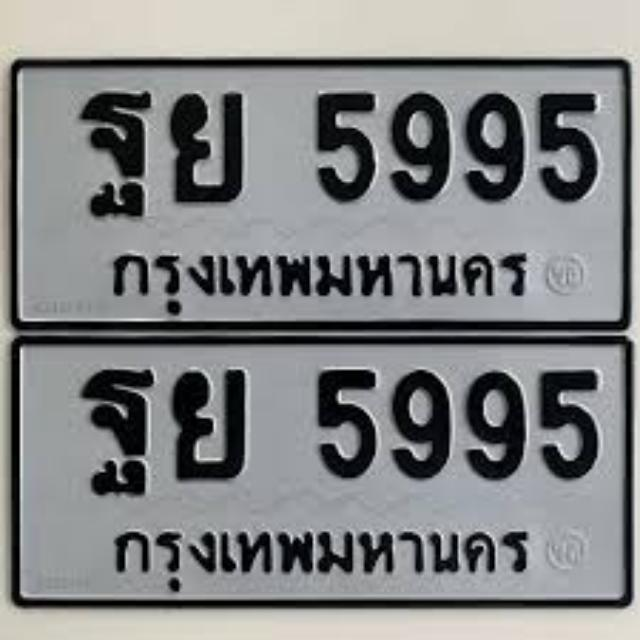licenseplate: (11, 56, 631, 334), (12, 336, 634, 608)
